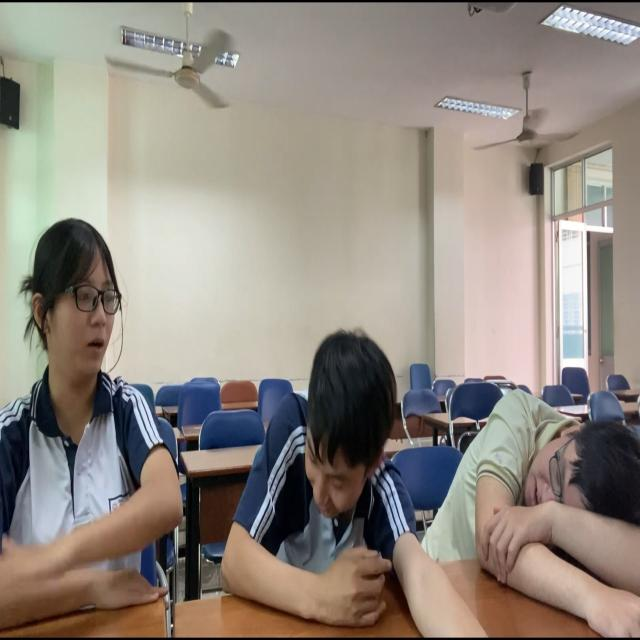sleep: (428, 386, 640, 614)
